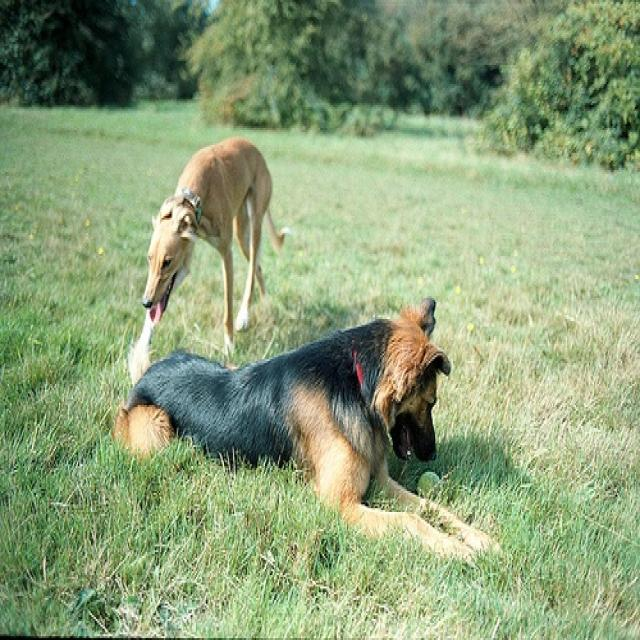dog: (106, 296, 503, 573), (127, 136, 293, 376)
